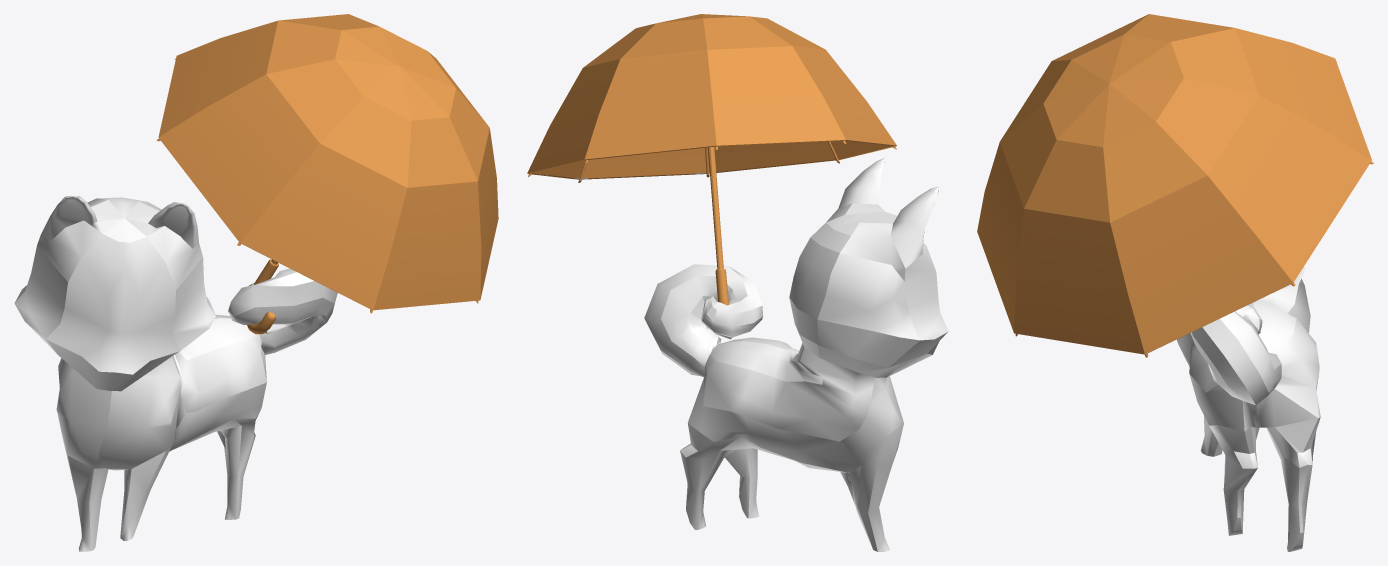
The model's file is umbrella_Frame21.obj.
The picture shows the model from 3 angles, left to right: view 1: azimuth 30°, elevation 25°; view 2: azimuth 150°, elevation 25°; view 3: azimuth 270°, elevation 25°; orthographic projection. The views are drawn at different scales.
Parts seen in each view (by area): view 1: polySurface4, newRigging:BodzL1; view 2: newRigging:BodzL1, polySurface4; view 3: polySurface4, newRigging:BodzL1.
Boxes of the visible parts, x1=… form: polySurface4: x1=156, y1=14, x2=498, y2=334; newRigging:BodzL1: x1=14, y1=196, x2=337, y2=551; newRigging:BodzL1: x1=644, y1=158, x2=948, y2=551; polySurface4: x1=527, y1=14, x2=896, y2=305; polySurface4: x1=977, y1=14, x2=1373, y2=357; newRigging:BodzL1: x1=1177, y1=267, x2=1320, y2=551.
Bounding box in the file's own units: 9.48 × 10.38 × 6.98.
2 materials, 1 textured.
